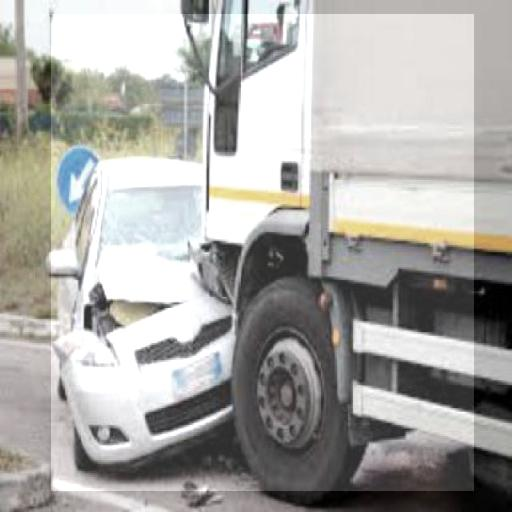小汽车撞小汽车: (51, 14, 474, 491)
